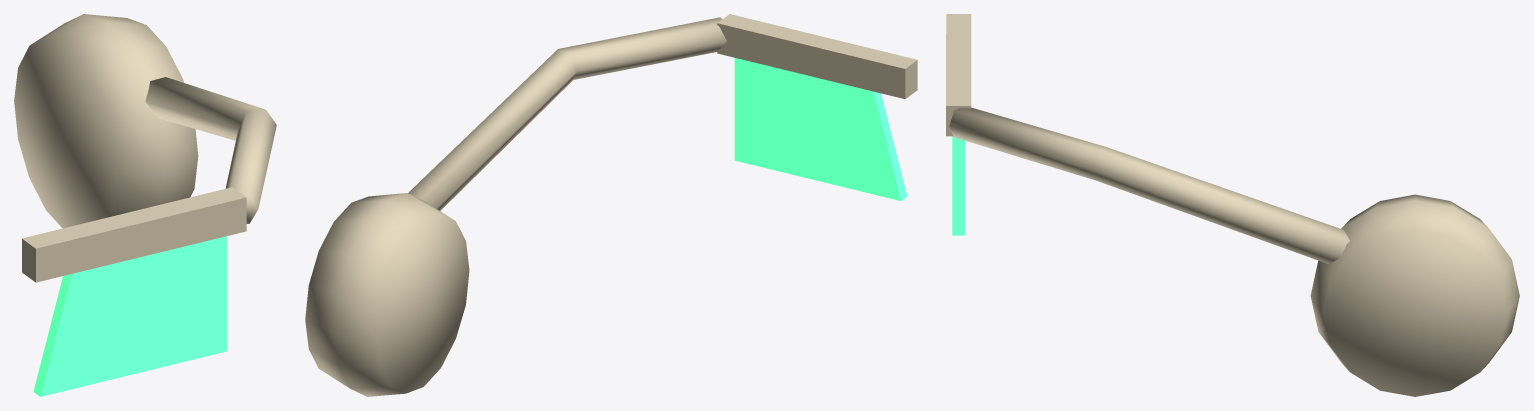
Rendered from scouter.glb.
3 renders of one model, left to right at view 1: azimuth 30°, elevation 25°; view 2: azimuth 150°, elevation 25°; view 3: azimuth 270°, elevation 25°, orthographic. The views are drawn at different scales.
Visible parts, largest first — view 1: scouter; view 2: scouter; view 3: scouter.
Boxes of the visible parts, <box> form: scouter: <box>14,14,276,396</box>; scouter: <box>305,14,917,396</box>; scouter: <box>946,14,1519,396</box>.
Size of the model in its own units: 0.094 by 0.061 by 0.137.
